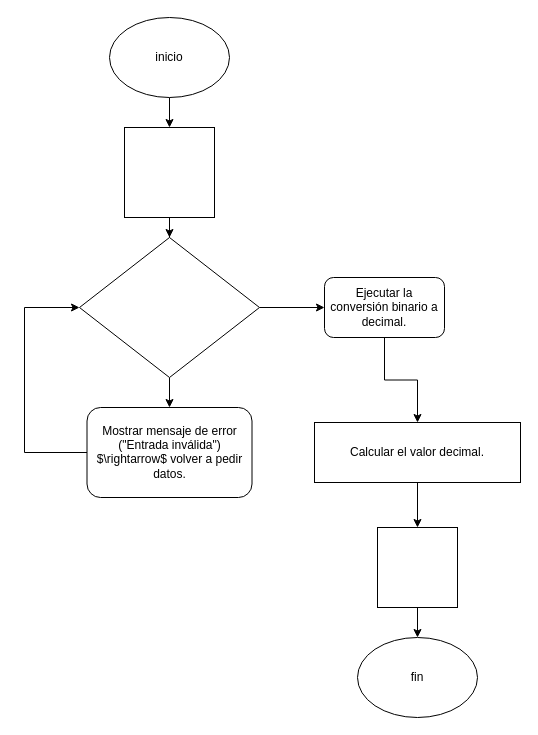
The diagram is 538 pixels wide and 735 high, and some of its shapes have lost their labels. The shapes that lost their labels are listed below. From the top down, each one's centre as x and y in pixels, then its label:
At [169,172]: "Usuario ingresa la cadena de hasta 8 dígitos binarios.".
At [169,307]: "¿La cadena contiene solo 0s y 1s y tiene <= 8 dígitos?".
At [417,567]: "Mostrar resultado en pantalla".
